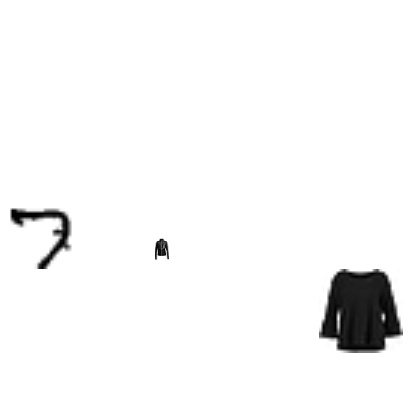1: (99, 255, 155, 311)
2: (146, 166, 168, 188)
4: (5, 8, 117, 120)
5: (180, 38, 222, 80)
Bag: (146, 98, 202, 154), (61, 138, 89, 166), (233, 237, 255, 259)
Coat: (88, 345, 130, 387)
Sneaker: (349, 81, 391, 123)
